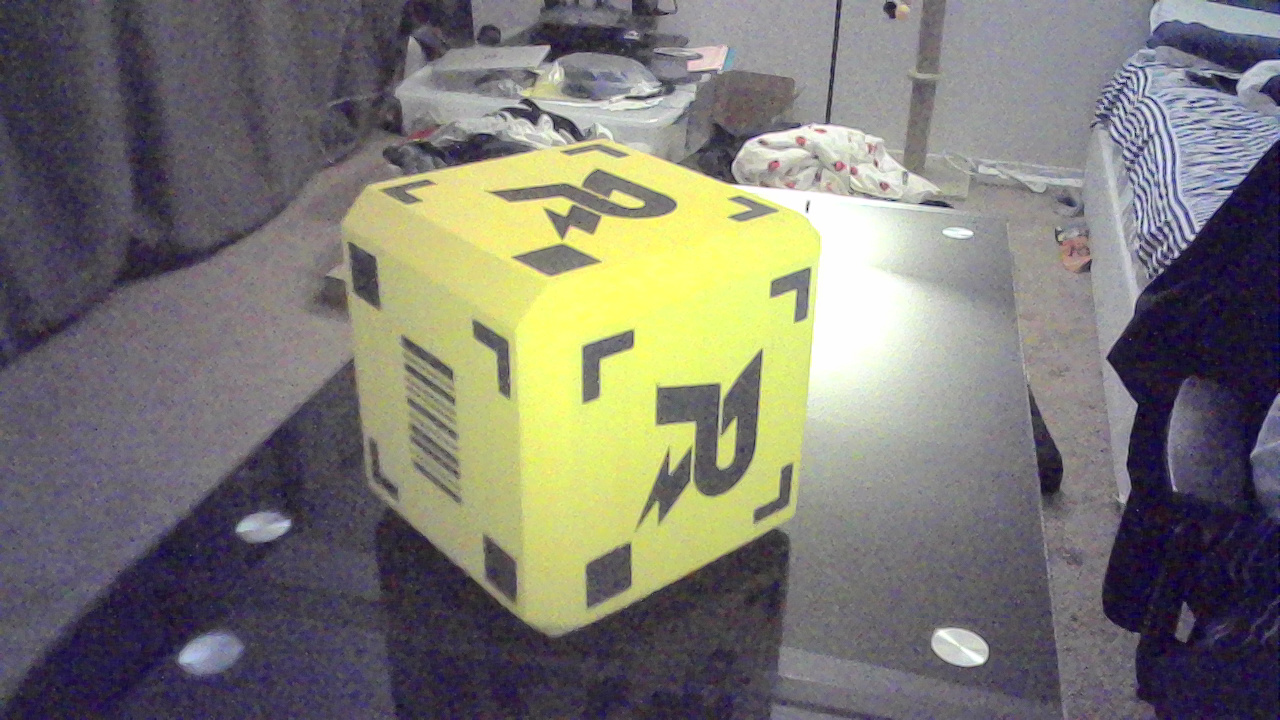Barcode: (410, 347, 475, 499)
R: (646, 364, 778, 521), (517, 172, 681, 243)
